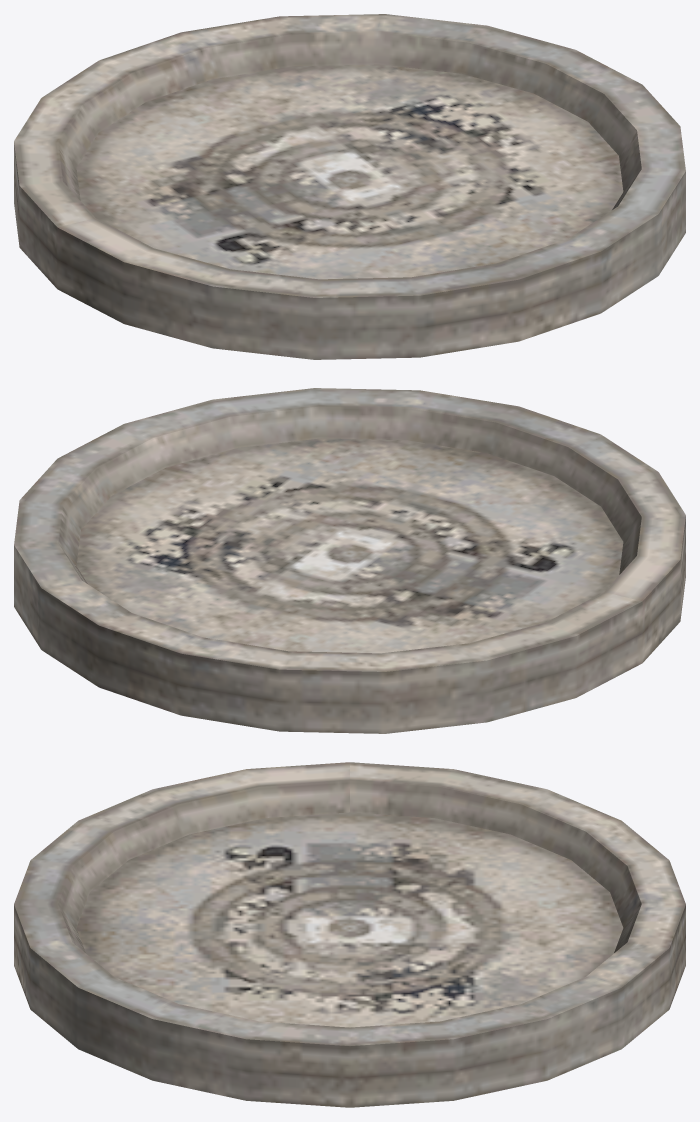
The model's file is paintBucketLid01_white.FBX.
3 views of the same model, one above another, from view 1: azimuth 30°, elevation 25°; view 2: azimuth 150°, elevation 25°; view 3: azimuth 270°, elevation 25° (orthographic).
Visible parts, largest first — view 1: SM_PaintBucketLid01; view 2: SM_PaintBucketLid01; view 3: SM_PaintBucketLid01.
Boxes of the visible parts, x1,y1,x2,y2 form: SM_PaintBucketLid01: (14, 14, 685, 359); SM_PaintBucketLid01: (14, 388, 685, 733); SM_PaintBucketLid01: (14, 762, 685, 1107).
Bounding box in the file's own units: 33.57 × 3.4 × 33.57.
Materials: 1 (1 with a texture image).
